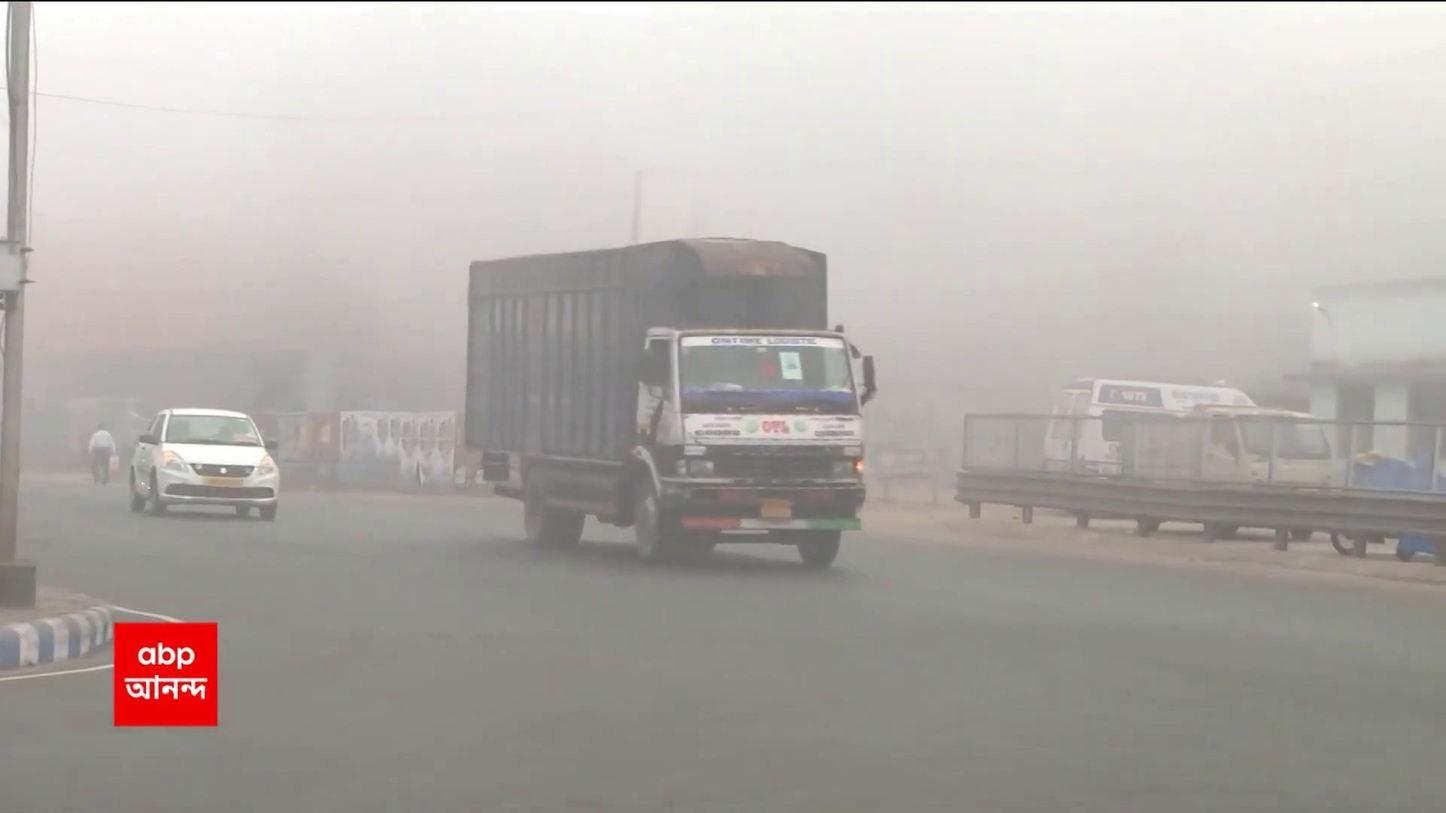Car: (124, 408, 285, 520)
Truck: (464, 236, 874, 571)
